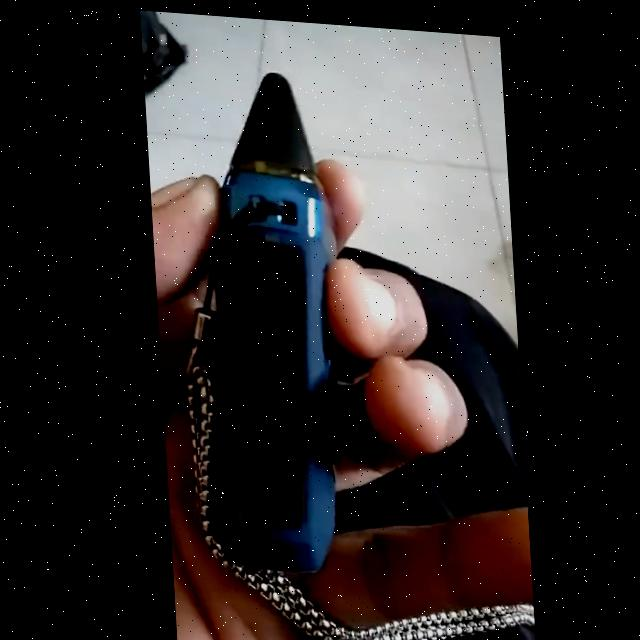vape: (186, 64, 352, 574)
